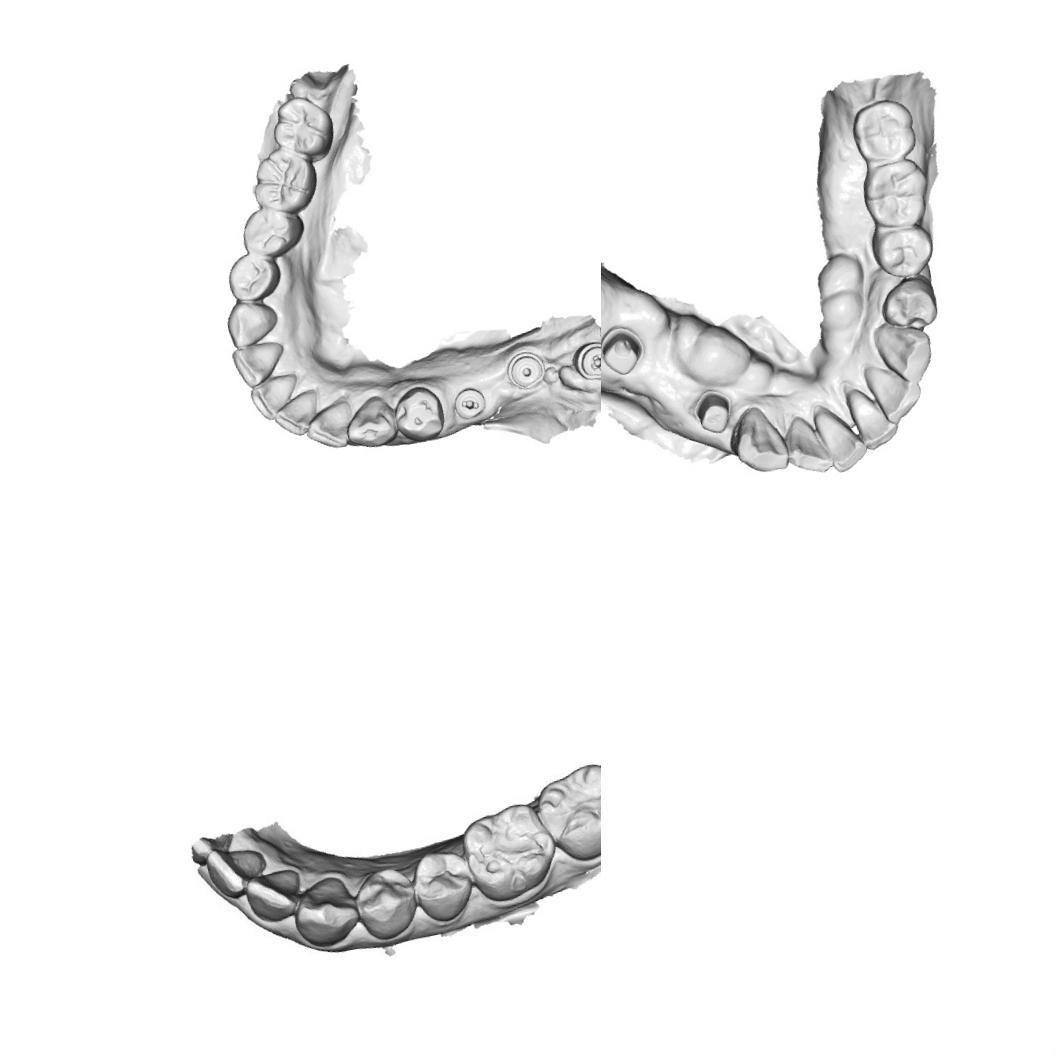abutment: (601, 319, 648, 378), (688, 385, 736, 436)
canine: (282, 866, 362, 952), (723, 401, 793, 478), (868, 312, 937, 388), (339, 391, 401, 452), (222, 294, 282, 350)
implant: (501, 346, 548, 395)
implant_minus: (449, 384, 488, 422)
implant_plus: (567, 335, 601, 384)
incisor: (859, 356, 926, 429), (810, 396, 870, 475), (240, 857, 308, 925), (202, 839, 270, 904), (779, 409, 836, 480), (843, 382, 900, 452), (228, 338, 290, 390), (300, 398, 357, 454), (247, 370, 304, 424), (269, 387, 323, 440)
molar: (454, 793, 559, 906), (528, 757, 601, 859), (244, 142, 323, 219), (856, 156, 935, 232), (266, 90, 339, 168), (847, 92, 921, 168)
premolar: (403, 844, 483, 932), (352, 858, 426, 946), (866, 215, 939, 283), (236, 201, 308, 260), (875, 272, 940, 334), (221, 247, 285, 306), (389, 382, 448, 446)
